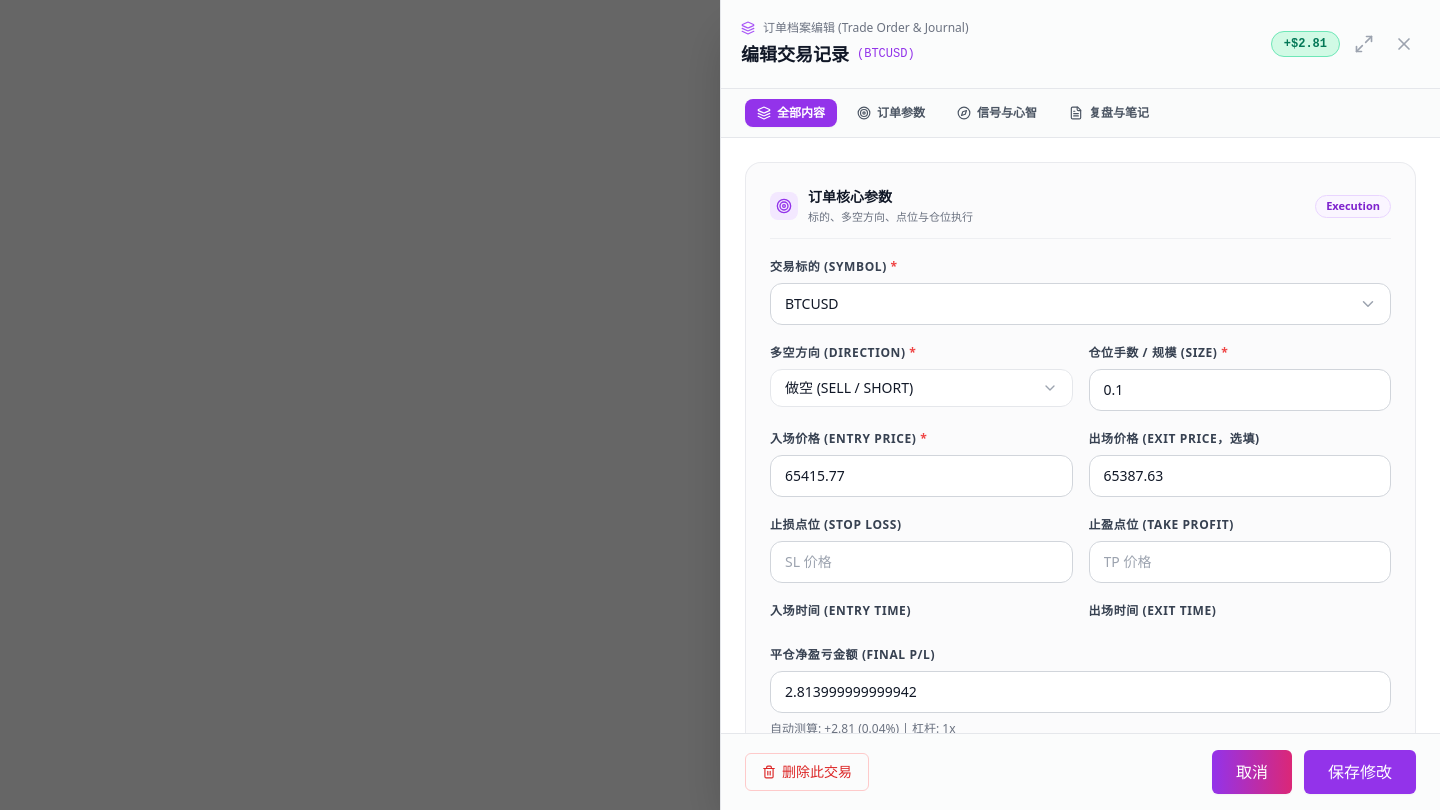
Test: TradeDrawer - Layout & Spacing › switches to strategy tab automatically if required entry conditions are missing on submit
# Switch to details tab
What coordinates should you click on to do the following:
click the button "订单参数"
I would click on:
 (891, 113)
Its box is [845, 99, 937, 127].
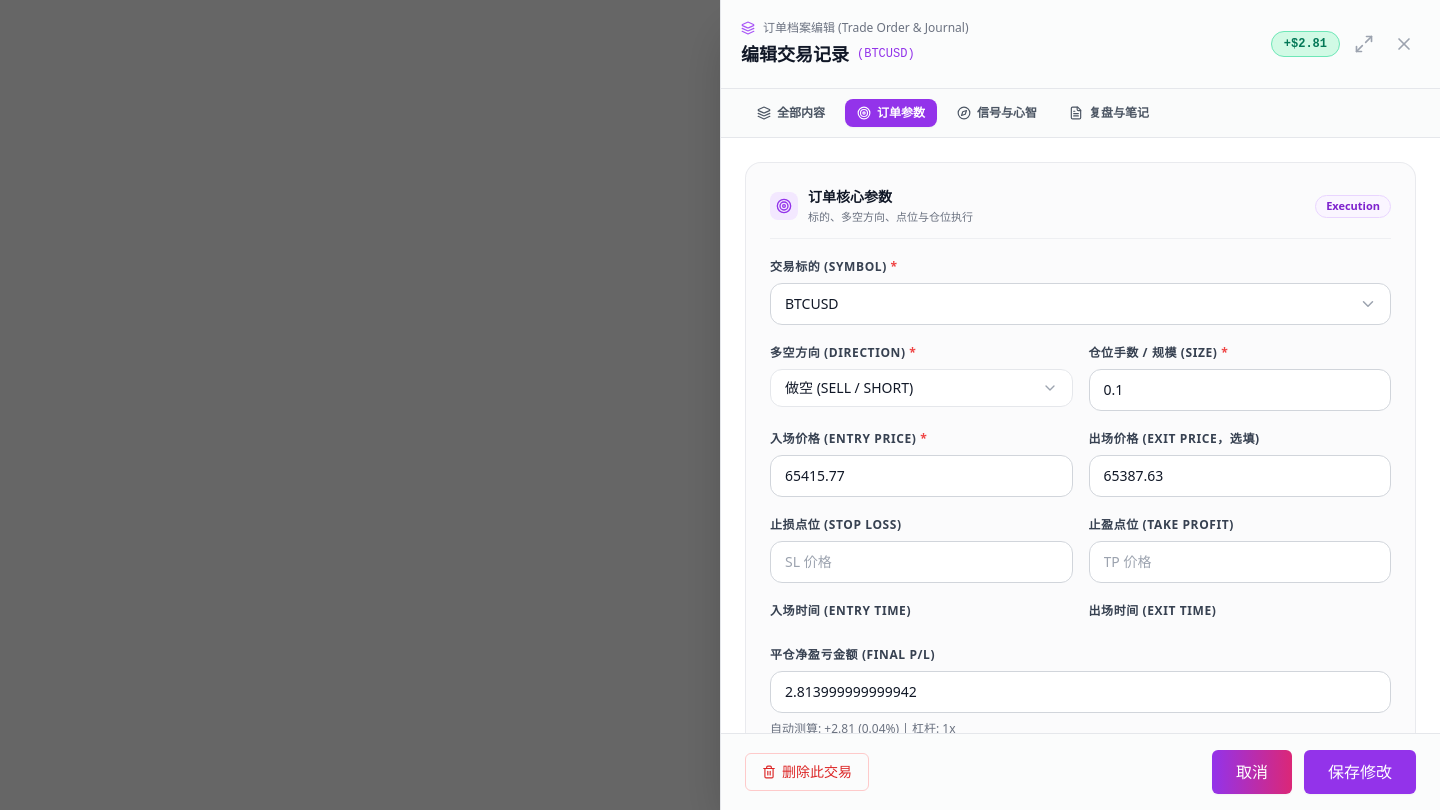
# Click save button
What coordinates should you click on to do the following:
click the button "保存修改"
I would click on:
 (1360, 772)
Its box is [1304, 750, 1416, 794].
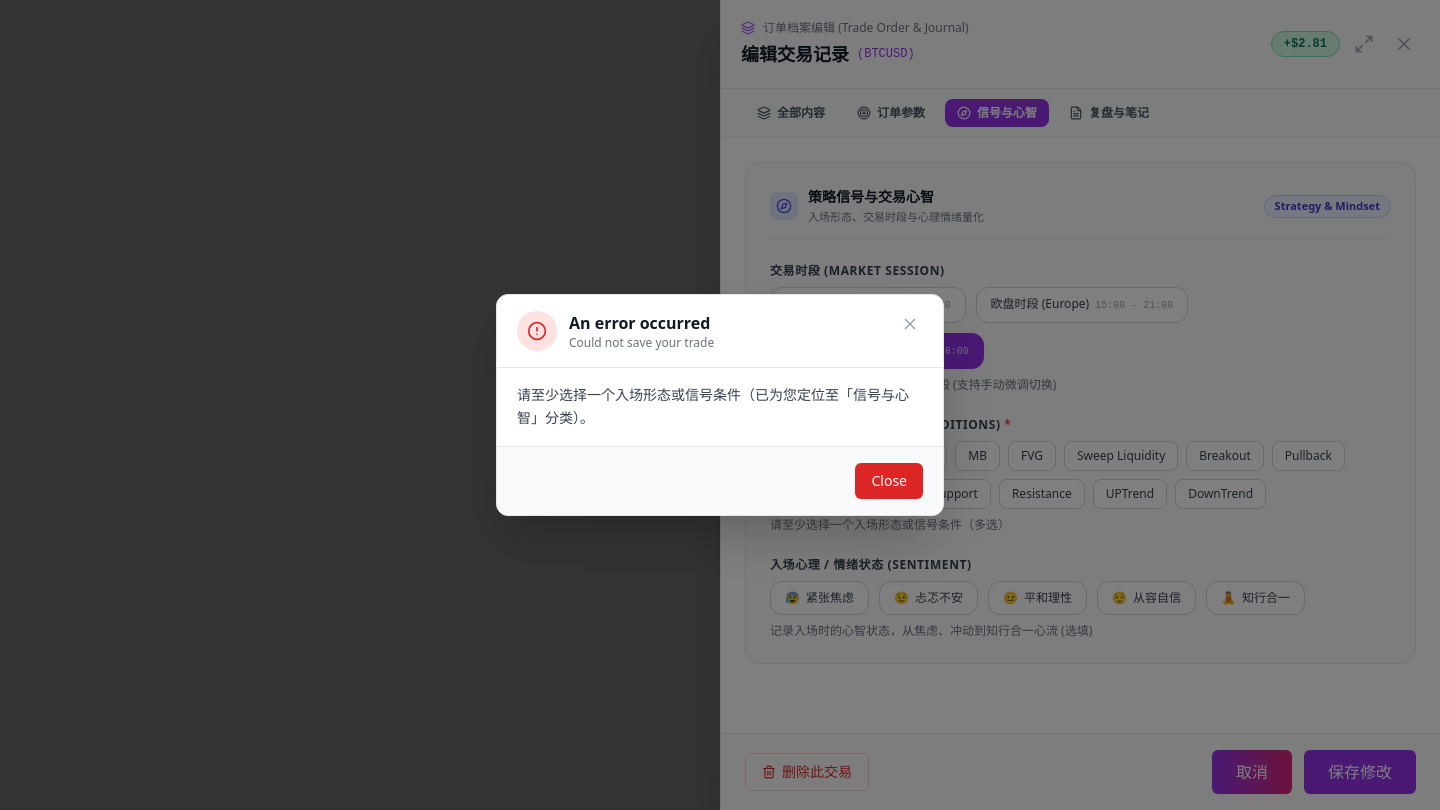
Result: the heading "策略信号与交易心智" is shown at [808, 187, 934, 206]
